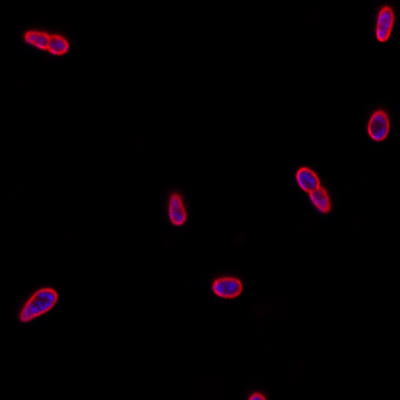Mecillinam: (295, 166, 331, 214), (18, 288, 58, 322), (24, 30, 70, 56), (365, 108, 392, 142), (211, 276, 244, 299), (376, 6, 393, 42)
Oblique: (166, 192, 187, 228)
